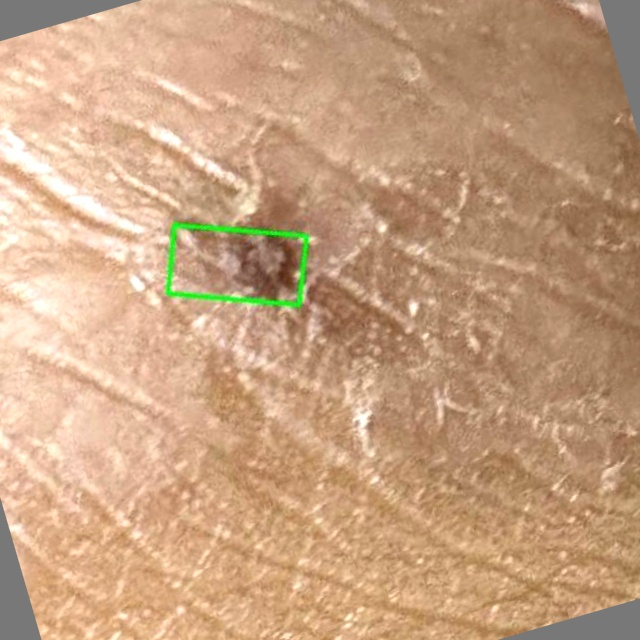Scabies: (167, 224, 305, 305)
